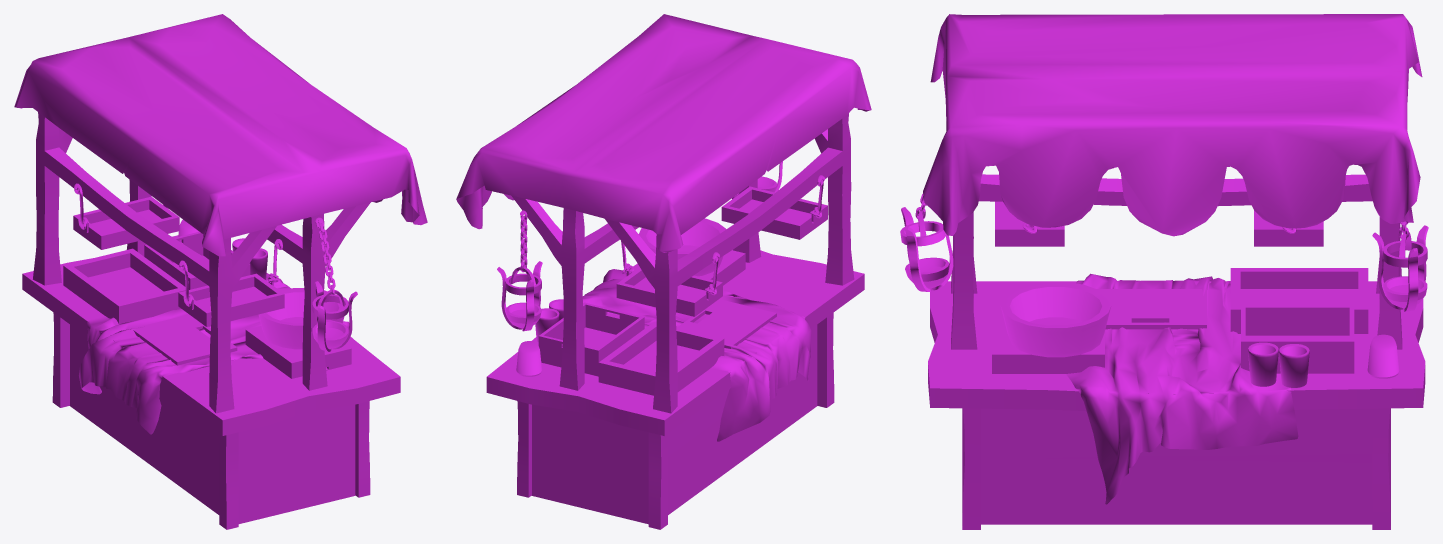
File: stall.fbx
3 renders of one model, left to right at view 1: azimuth 30°, elevation 25°; view 2: azimuth 150°, elevation 25°; view 3: azimuth 270°, elevation 25°, orthographic. The views are drawn at different scales.
Parts seen in each view (by area): view 1: tissus, stall, objets; view 2: tissus, stall, objets; view 3: tissus, stall, objets.
Part boxes in pixels (<box>): tissus: <box>14,14,427,434</box>; stall: <box>22,112,400,529</box>; objets: <box>63,183,357,378</box>; tissus: <box>456,14,871,441</box>; stall: <box>486,113,864,529</box>; objets: <box>497,161,827,395</box>; tissus: <box>923,14,1422,504</box>; stall: <box>928,174,1425,529</box>; objets: <box>900,194,1428,388</box>.
Bounding box in the file's own units: 7.06 × 9.84 × 11.12.
